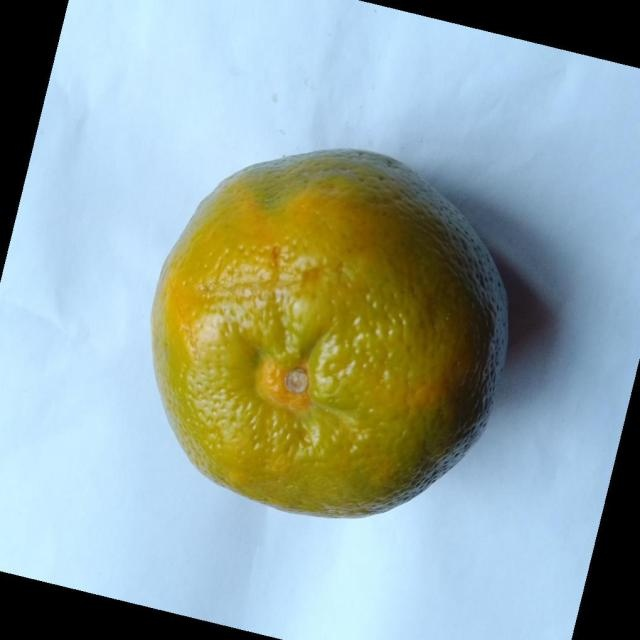agrume: (150, 146, 510, 520)
